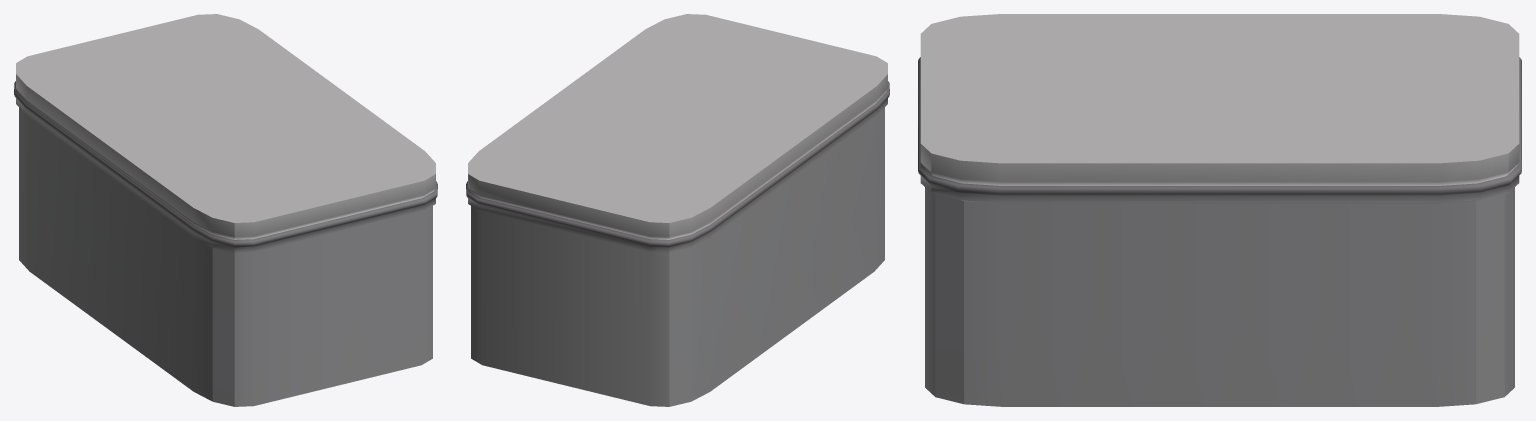
Rendered from centerTable.fbx.
The picture shows the model from 3 angles, left to right: view 1: azimuth 30°, elevation 25°; view 2: azimuth 150°, elevation 25°; view 3: azimuth 270°, elevation 25°; orthographic projection. The views are drawn at different scales.
Parts seen in each view (by area): view 1: centerTable; view 2: centerTable; view 3: centerTable.
Boxes of the visible parts, left/top/right/bottom form: centerTable: left=14, top=14, right=437, bottom=406; centerTable: left=466, top=14, right=889, bottom=406; centerTable: left=918, top=14, right=1521, bottom=406.
Size of the model in its own units: 6913 by 5235 by 11710.
